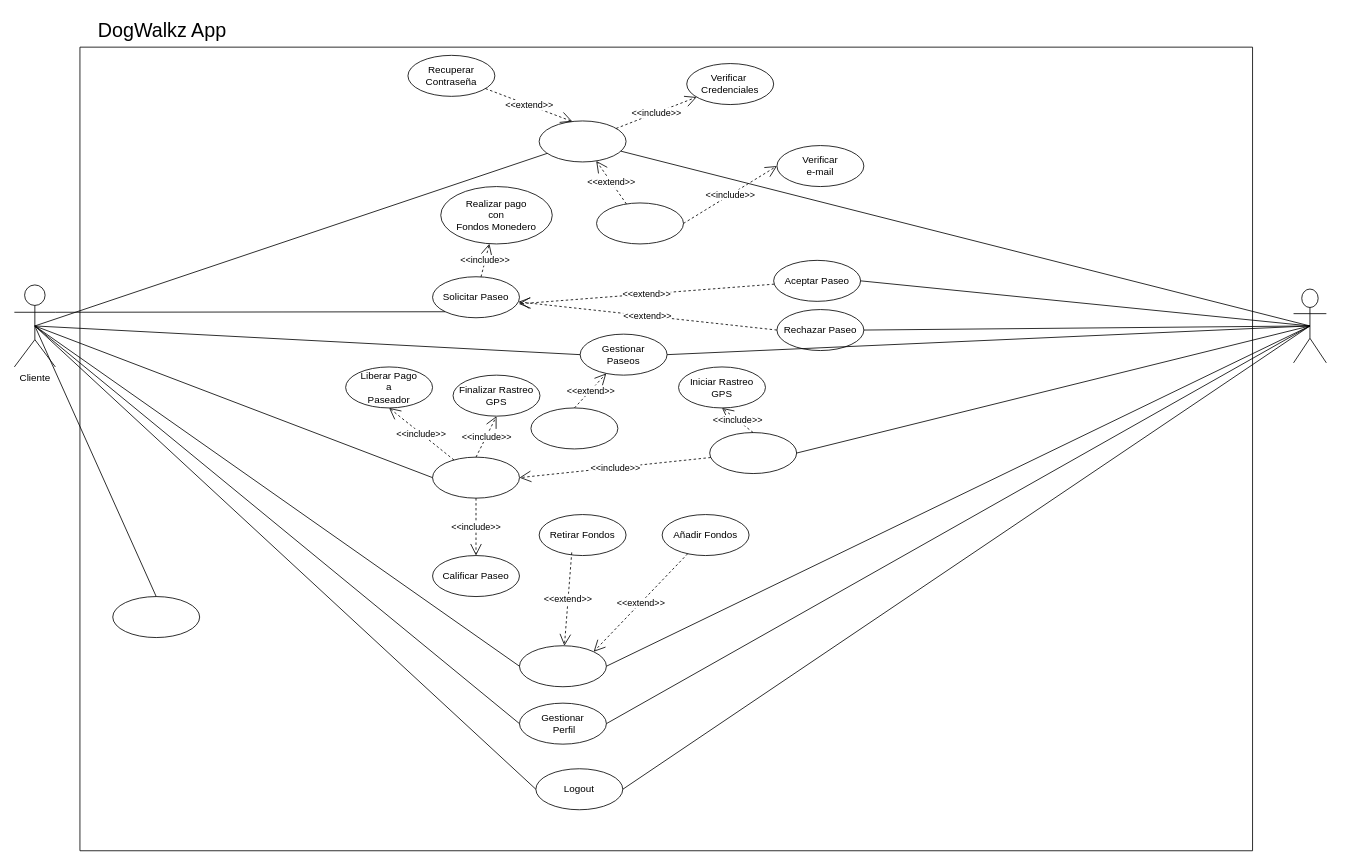
Image size: 1345x865. Some labels were removed from this diagram. The box of each missing label's shape, as (x1, y1, x2, y2) in pixels:
Cancelar Paseo: (530, 407, 618, 449)
Comenzar Paseo: (709, 432, 797, 474)
Finalizar Paseo: (432, 456, 519, 498)
Gestionar Monedero: (519, 645, 606, 687)
Gestionar Perros: (112, 596, 200, 638)
Login: (538, 120, 626, 162)
Paseador: (1293, 288, 1326, 363)
Registro: (596, 202, 683, 244)
